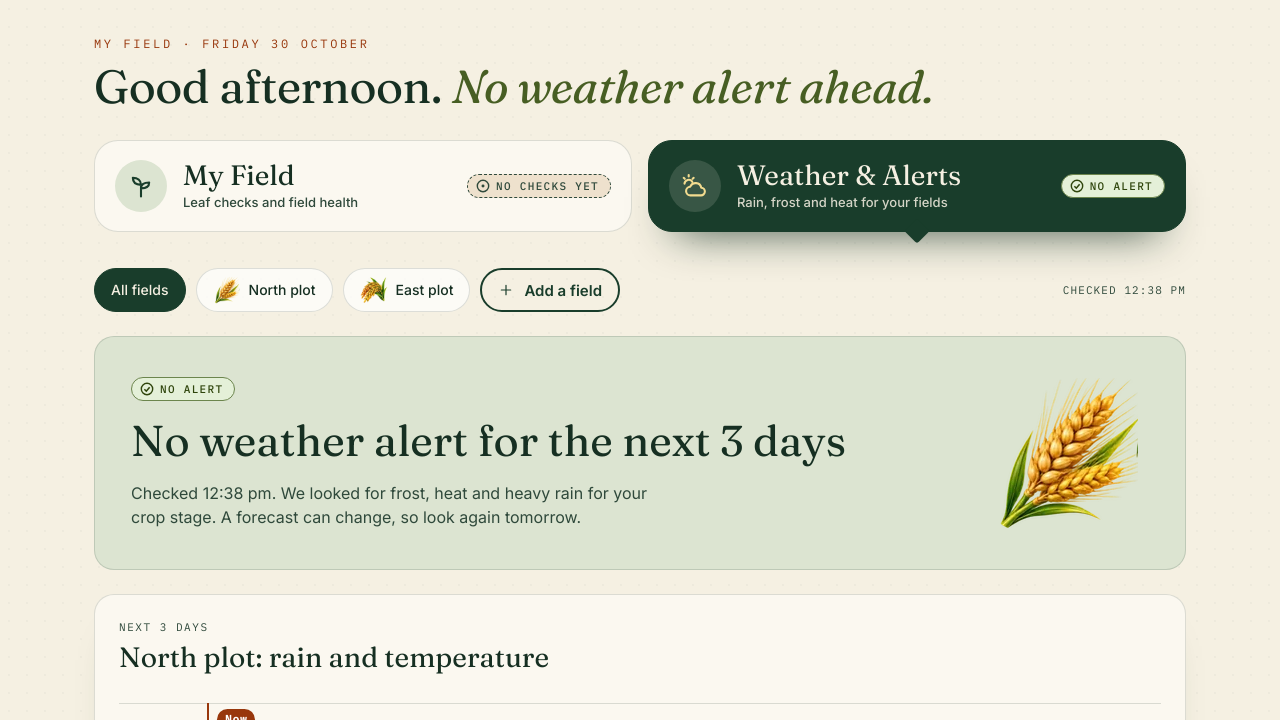
Scenario: it is on the Weather & Alerts page, for the selected field
What coordinates should you click on to do the following:
click the button "East plot"
I would click on:
 (406, 290)
Its box is [343, 268, 470, 312].
(page scrolled)
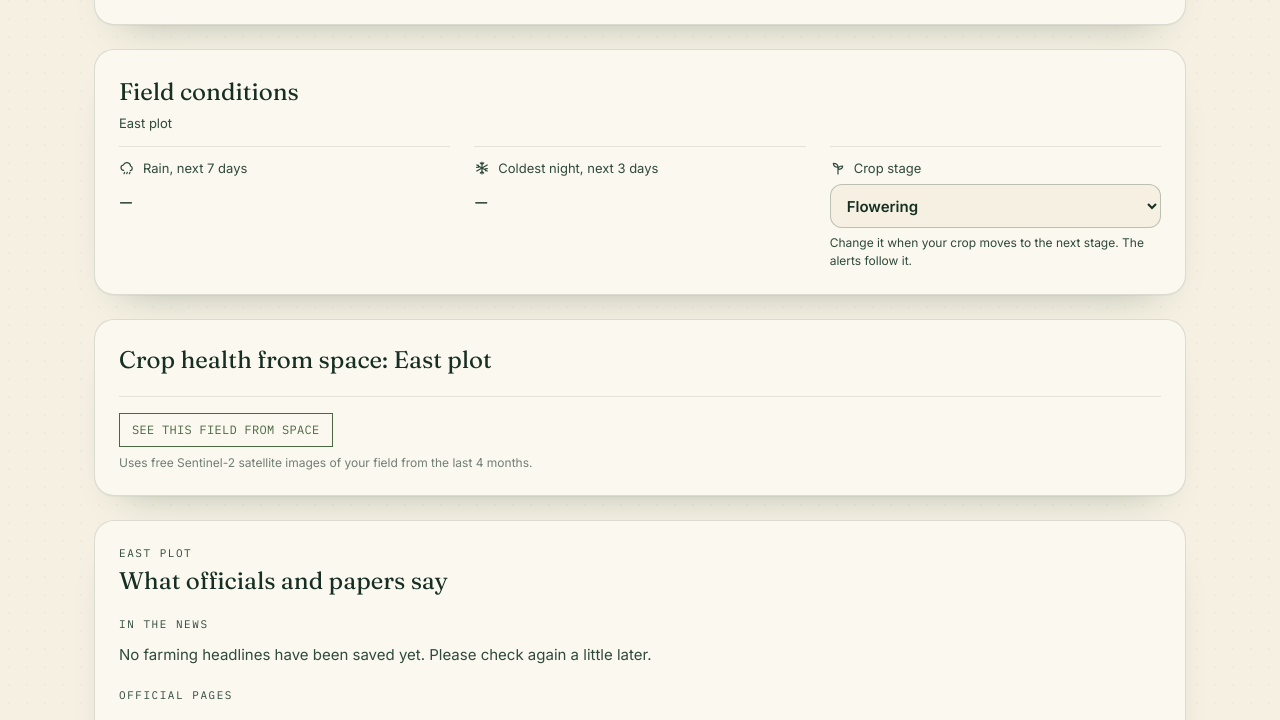
Expected: the heading "Crop health from space: East plot" is shown, [119, 345, 492, 374]
